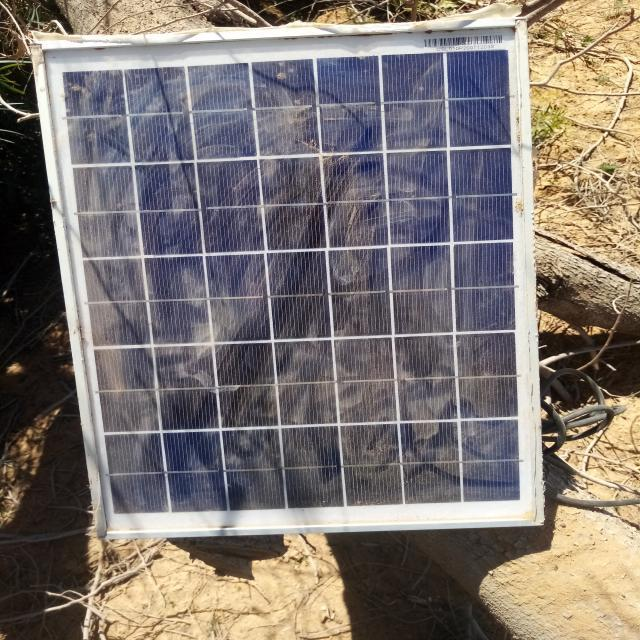faulty: (39, 23, 544, 535)
